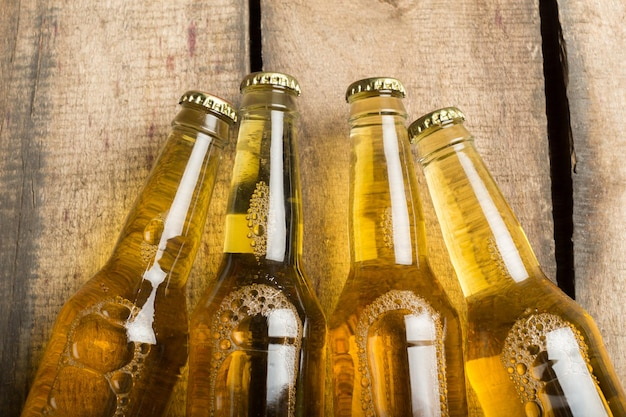alcohol: (17, 88, 242, 417), (407, 106, 626, 417), (324, 75, 469, 417), (187, 71, 330, 417)
